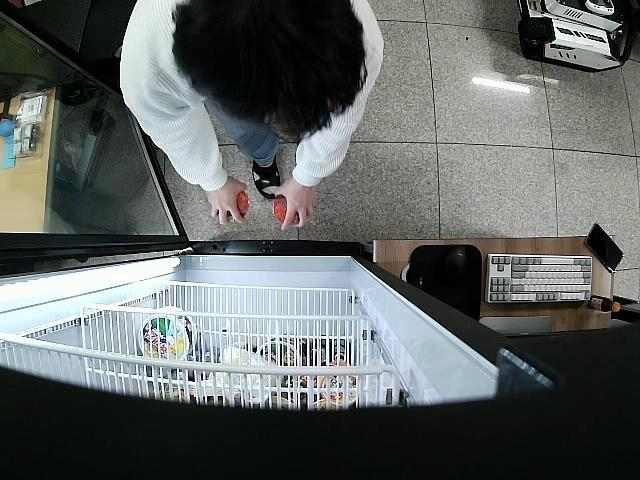02_shinRamen_S: (271, 194, 305, 226), (217, 193, 250, 224)
